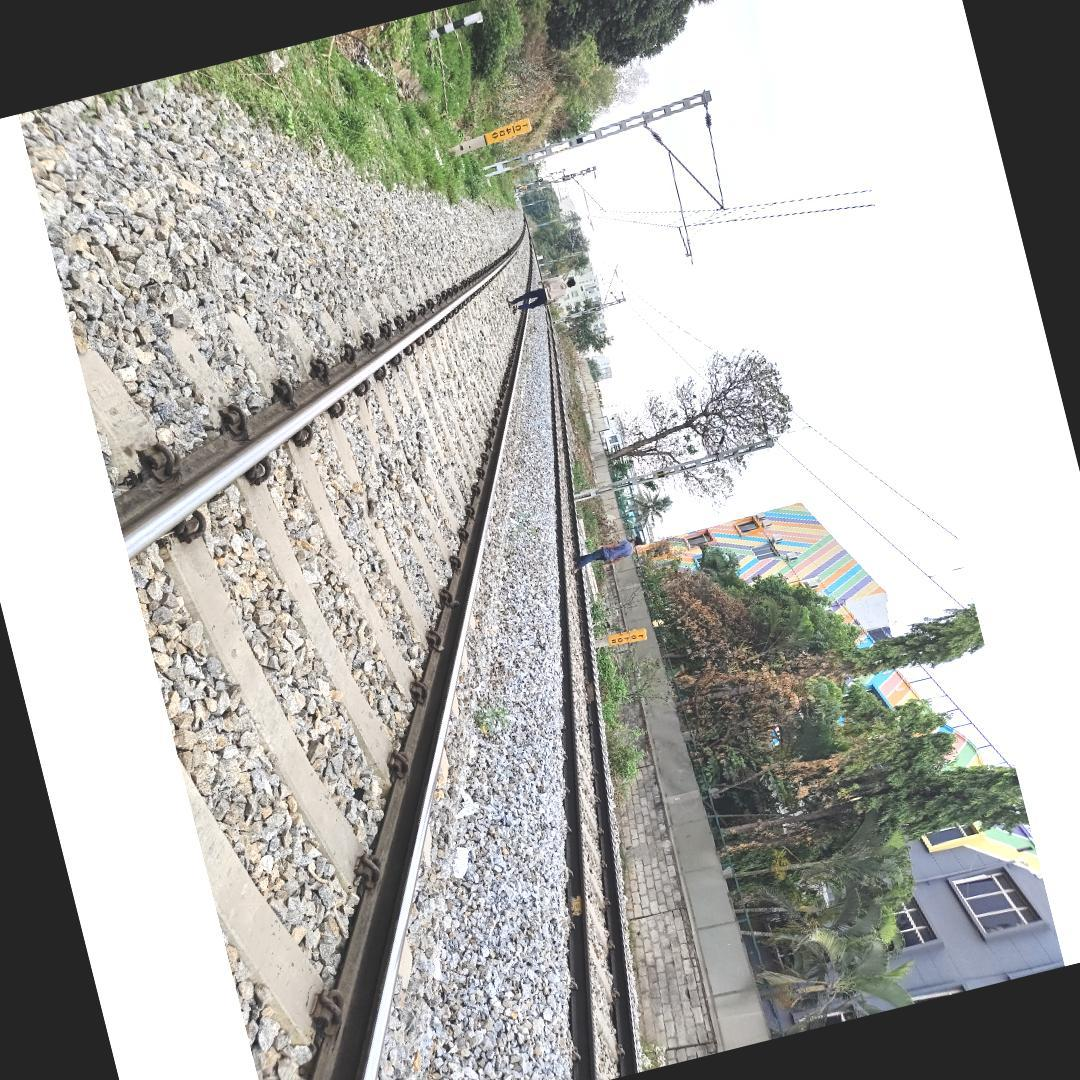standing: (503, 270, 580, 316), (566, 534, 647, 577)
track: (85, 193, 541, 1080)
